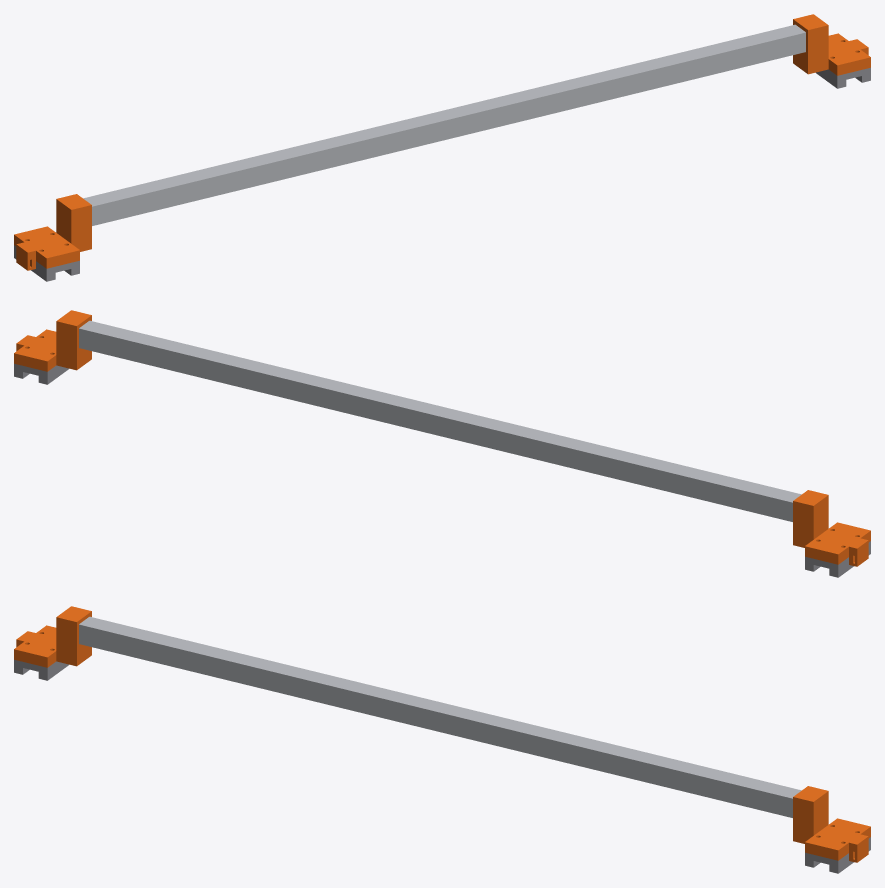
File: pusher_yn.glb
3 renders of one model, top to bottom at view 1: azimuth 30°, elevation 25°; view 2: azimuth 150°, elevation 25°; view 3: azimuth 330°, elevation 25°, orthographic.
Parts seen in each view (by area): view 1: dock_bar_y-1, dock_bar_bracket_high_inner_y-1-1, dock_bar_bracket_high_inner_y-1+1, dockREF_carriage_y-1+1, dockREF_carriage_y-1-1; view 2: dock_bar_y-1, dock_bar_bracket_high_inner_y-1-1, dock_bar_bracket_high_inner_y-1+1, dockREF_carriage_y-1+1, dockREF_carriage_y-1-1; view 3: dock_bar_y-1, dock_bar_bracket_high_inner_y-1+1, dock_bar_bracket_high_inner_y-1-1, dockREF_carriage_y-1-1, dockREF_carriage_y-1+1.
Part boxes in pixels (left/top/right/bottom): dock_bar_y-1: left=83, top=24, right=805, bottom=225; dock_bar_bracket_high_inner_y-1-1: left=14, top=194, right=91, bottom=270; dock_bar_bracket_high_inner_y-1+1: left=793, top=14, right=870, bottom=75; dockREF_carriage_y-1+1: left=816, top=67, right=870, bottom=88; dockREF_carriage_y-1-1: left=14, top=245, right=79, bottom=281; dock_bar_y-1: left=79, top=320, right=801, bottom=521; dock_bar_bracket_high_inner_y-1-1: left=793, top=490, right=870, bottom=566; dock_bar_bracket_high_inner_y-1+1: left=14, top=310, right=91, bottom=371; dockREF_carriage_y-1+1: left=14, top=363, right=68, bottom=384; dockREF_carriage_y-1-1: left=805, top=541, right=870, bottom=577; dock_bar_y-1: left=79, top=616, right=801, bottom=817; dock_bar_bracket_high_inner_y-1+1: left=793, top=786, right=870, bottom=862; dock_bar_bracket_high_inner_y-1-1: left=14, top=606, right=91, bottom=667; dockREF_carriage_y-1-1: left=14, top=659, right=68, bottom=680; dockREF_carriage_y-1+1: left=805, top=837, right=870, bottom=873.
Size of the model in its own units: 676 by 44 by 45.4.
